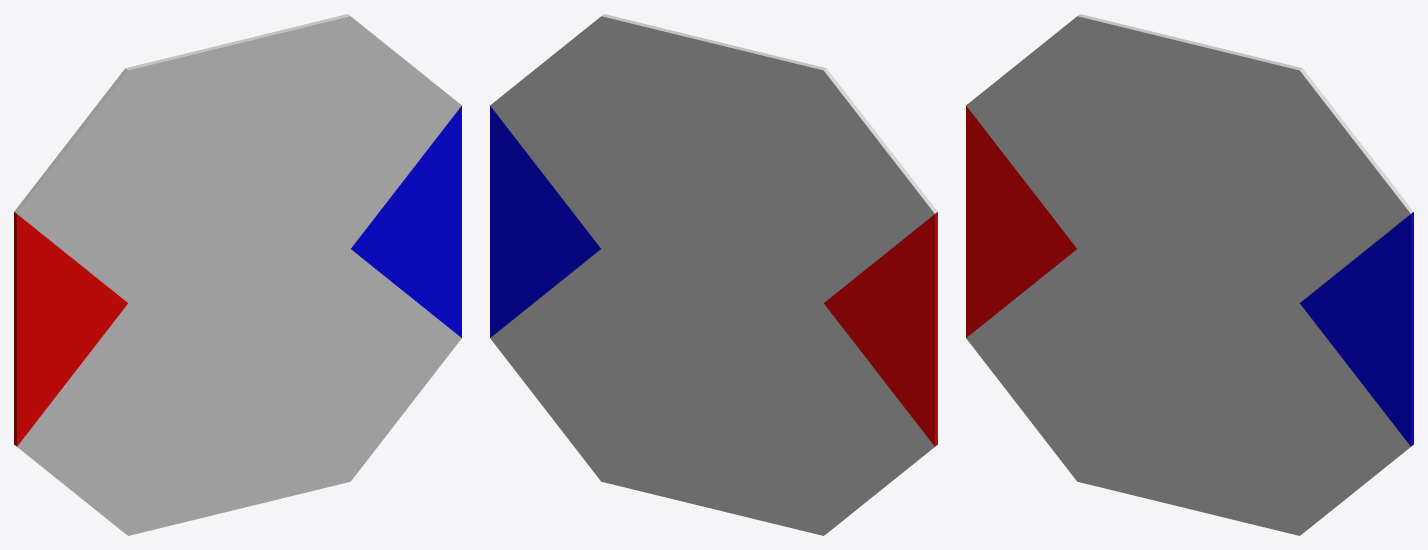
Rendered from small_ring.obj.
3 views of the same model, side by side, from view 1: azimuth 30°, elevation 25°; view 2: azimuth 150°, elevation 25°; view 3: azimuth 330°, elevation 25° (orthographic).
Visible parts, largest first — view 1: ソリッド1.001; view 2: ソリッド1.001; view 3: ソリッド1.001.
Boxes of the visible parts, x1,y1,x2,y2 form: ソリッド1.001: (14, 14, 461, 535); ソリッド1.001: (490, 14, 937, 535); ソリッド1.001: (966, 14, 1413, 535).
Bounding box in the file's own units: 2.55 × 2.55 × 0.03.
